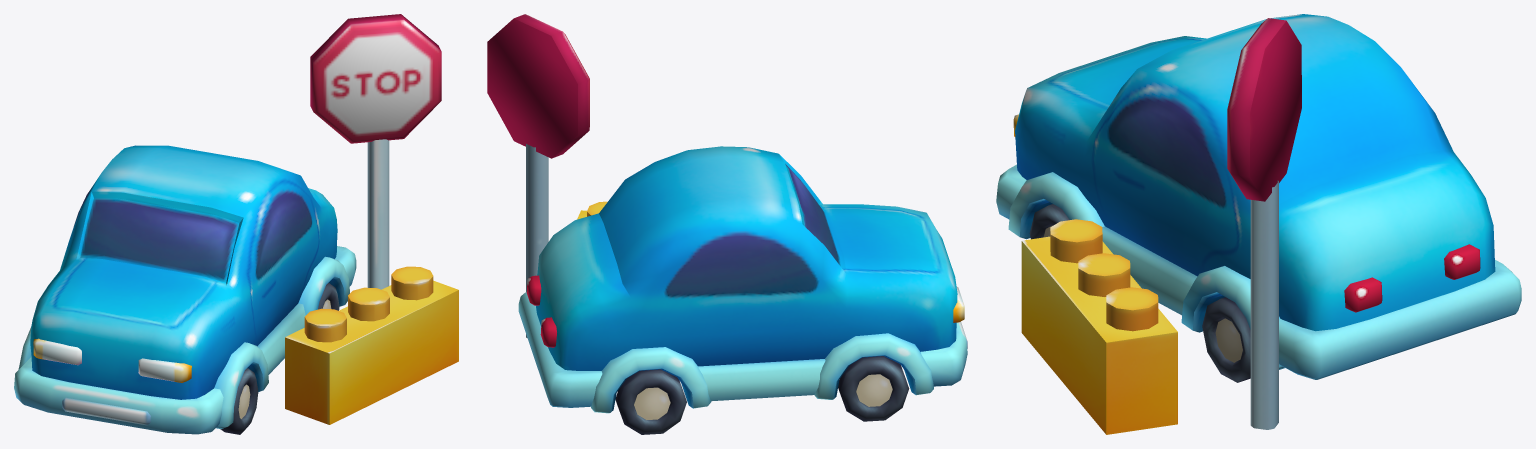
Rendered from model_btn_mini_game_car_parking.fbx.
3 renders of one model, left to right at view 1: azimuth 30°, elevation 25°; view 2: azimuth 150°, elevation 25°; view 3: azimuth 270°, elevation 25°, orthographic. The views are drawn at different scales.
Parts seen in each view (by area): view 1: model_btn_mini_game_car_parking; view 2: model_btn_mini_game_car_parking; view 3: model_btn_mini_game_car_parking.
Boxes of the visible parts, x1,y1,x2,y2 form: model_btn_mini_game_car_parking: (14,14,458,434); model_btn_mini_game_car_parking: (487,14,967,434); model_btn_mini_game_car_parking: (996,14,1521,434).
Size of the model in its own units: 102 by 67.34 by 82.29.
